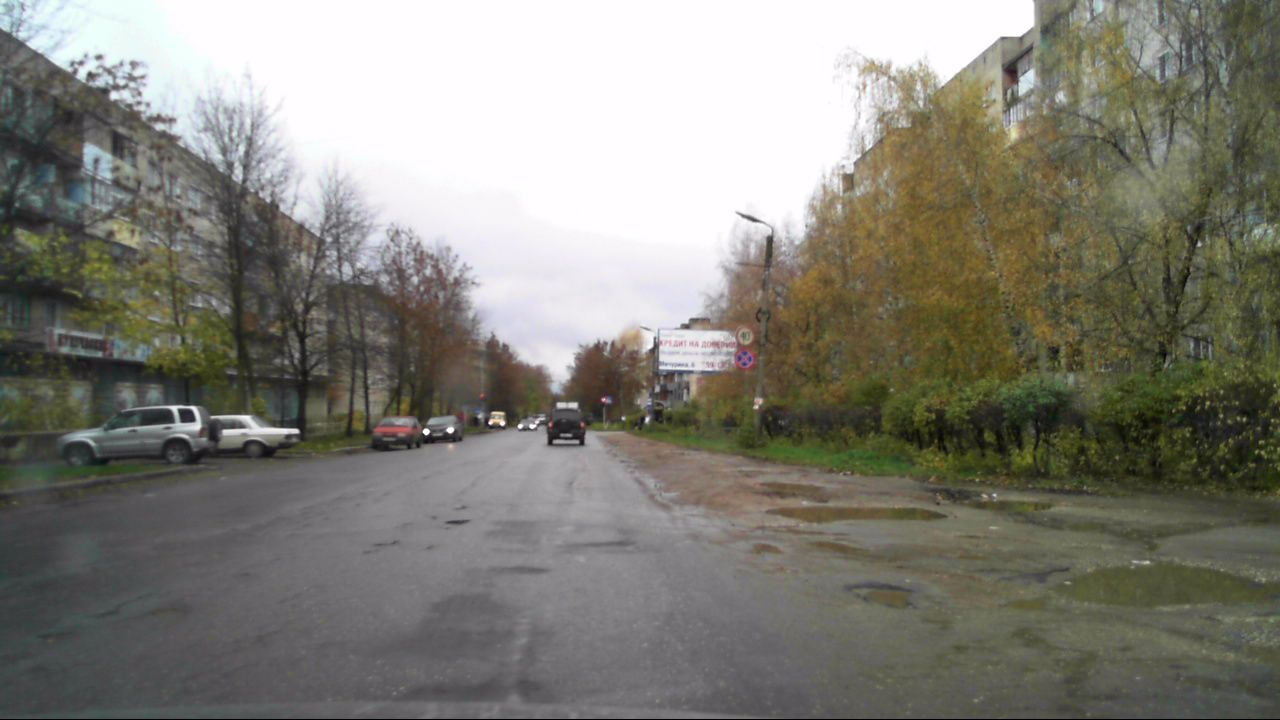No Parking: (732, 346, 756, 371)
speed_warning_40: (734, 324, 755, 347)
